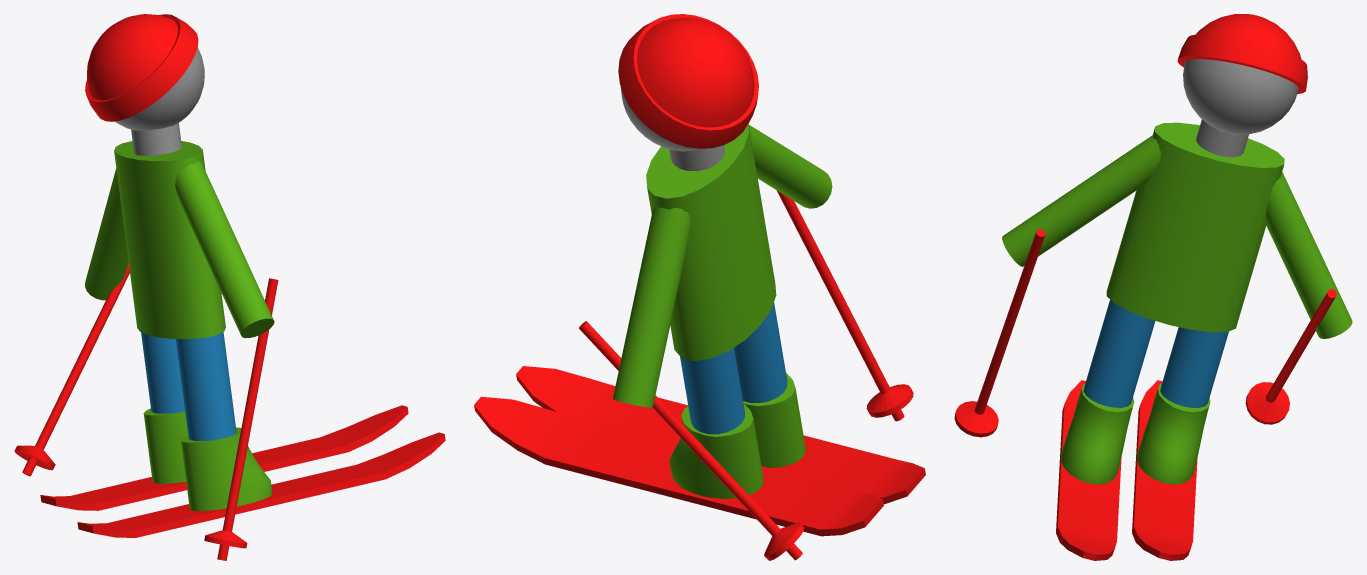
The model's file is _ki_left.fbx.
3 views of the same model, side by side, from view 1: azimuth 30°, elevation 25°; view 2: azimuth 150°, elevation 25°; view 3: azimuth 270°, elevation 25° (orthographic). The views are drawn at different scales.
Visible parts, largest first — view 1: Sphere001; view 2: Sphere001; view 3: Sphere001.
Boxes of the visible parts, box(x1,y1,x2,y2) form: Sphere001: box(14, 14, 445, 560); Sphere001: box(474, 14, 925, 560); Sphere001: box(954, 14, 1352, 560).
Bounding box in the file's own units: 68.95 × 82.7 × 65.6.
